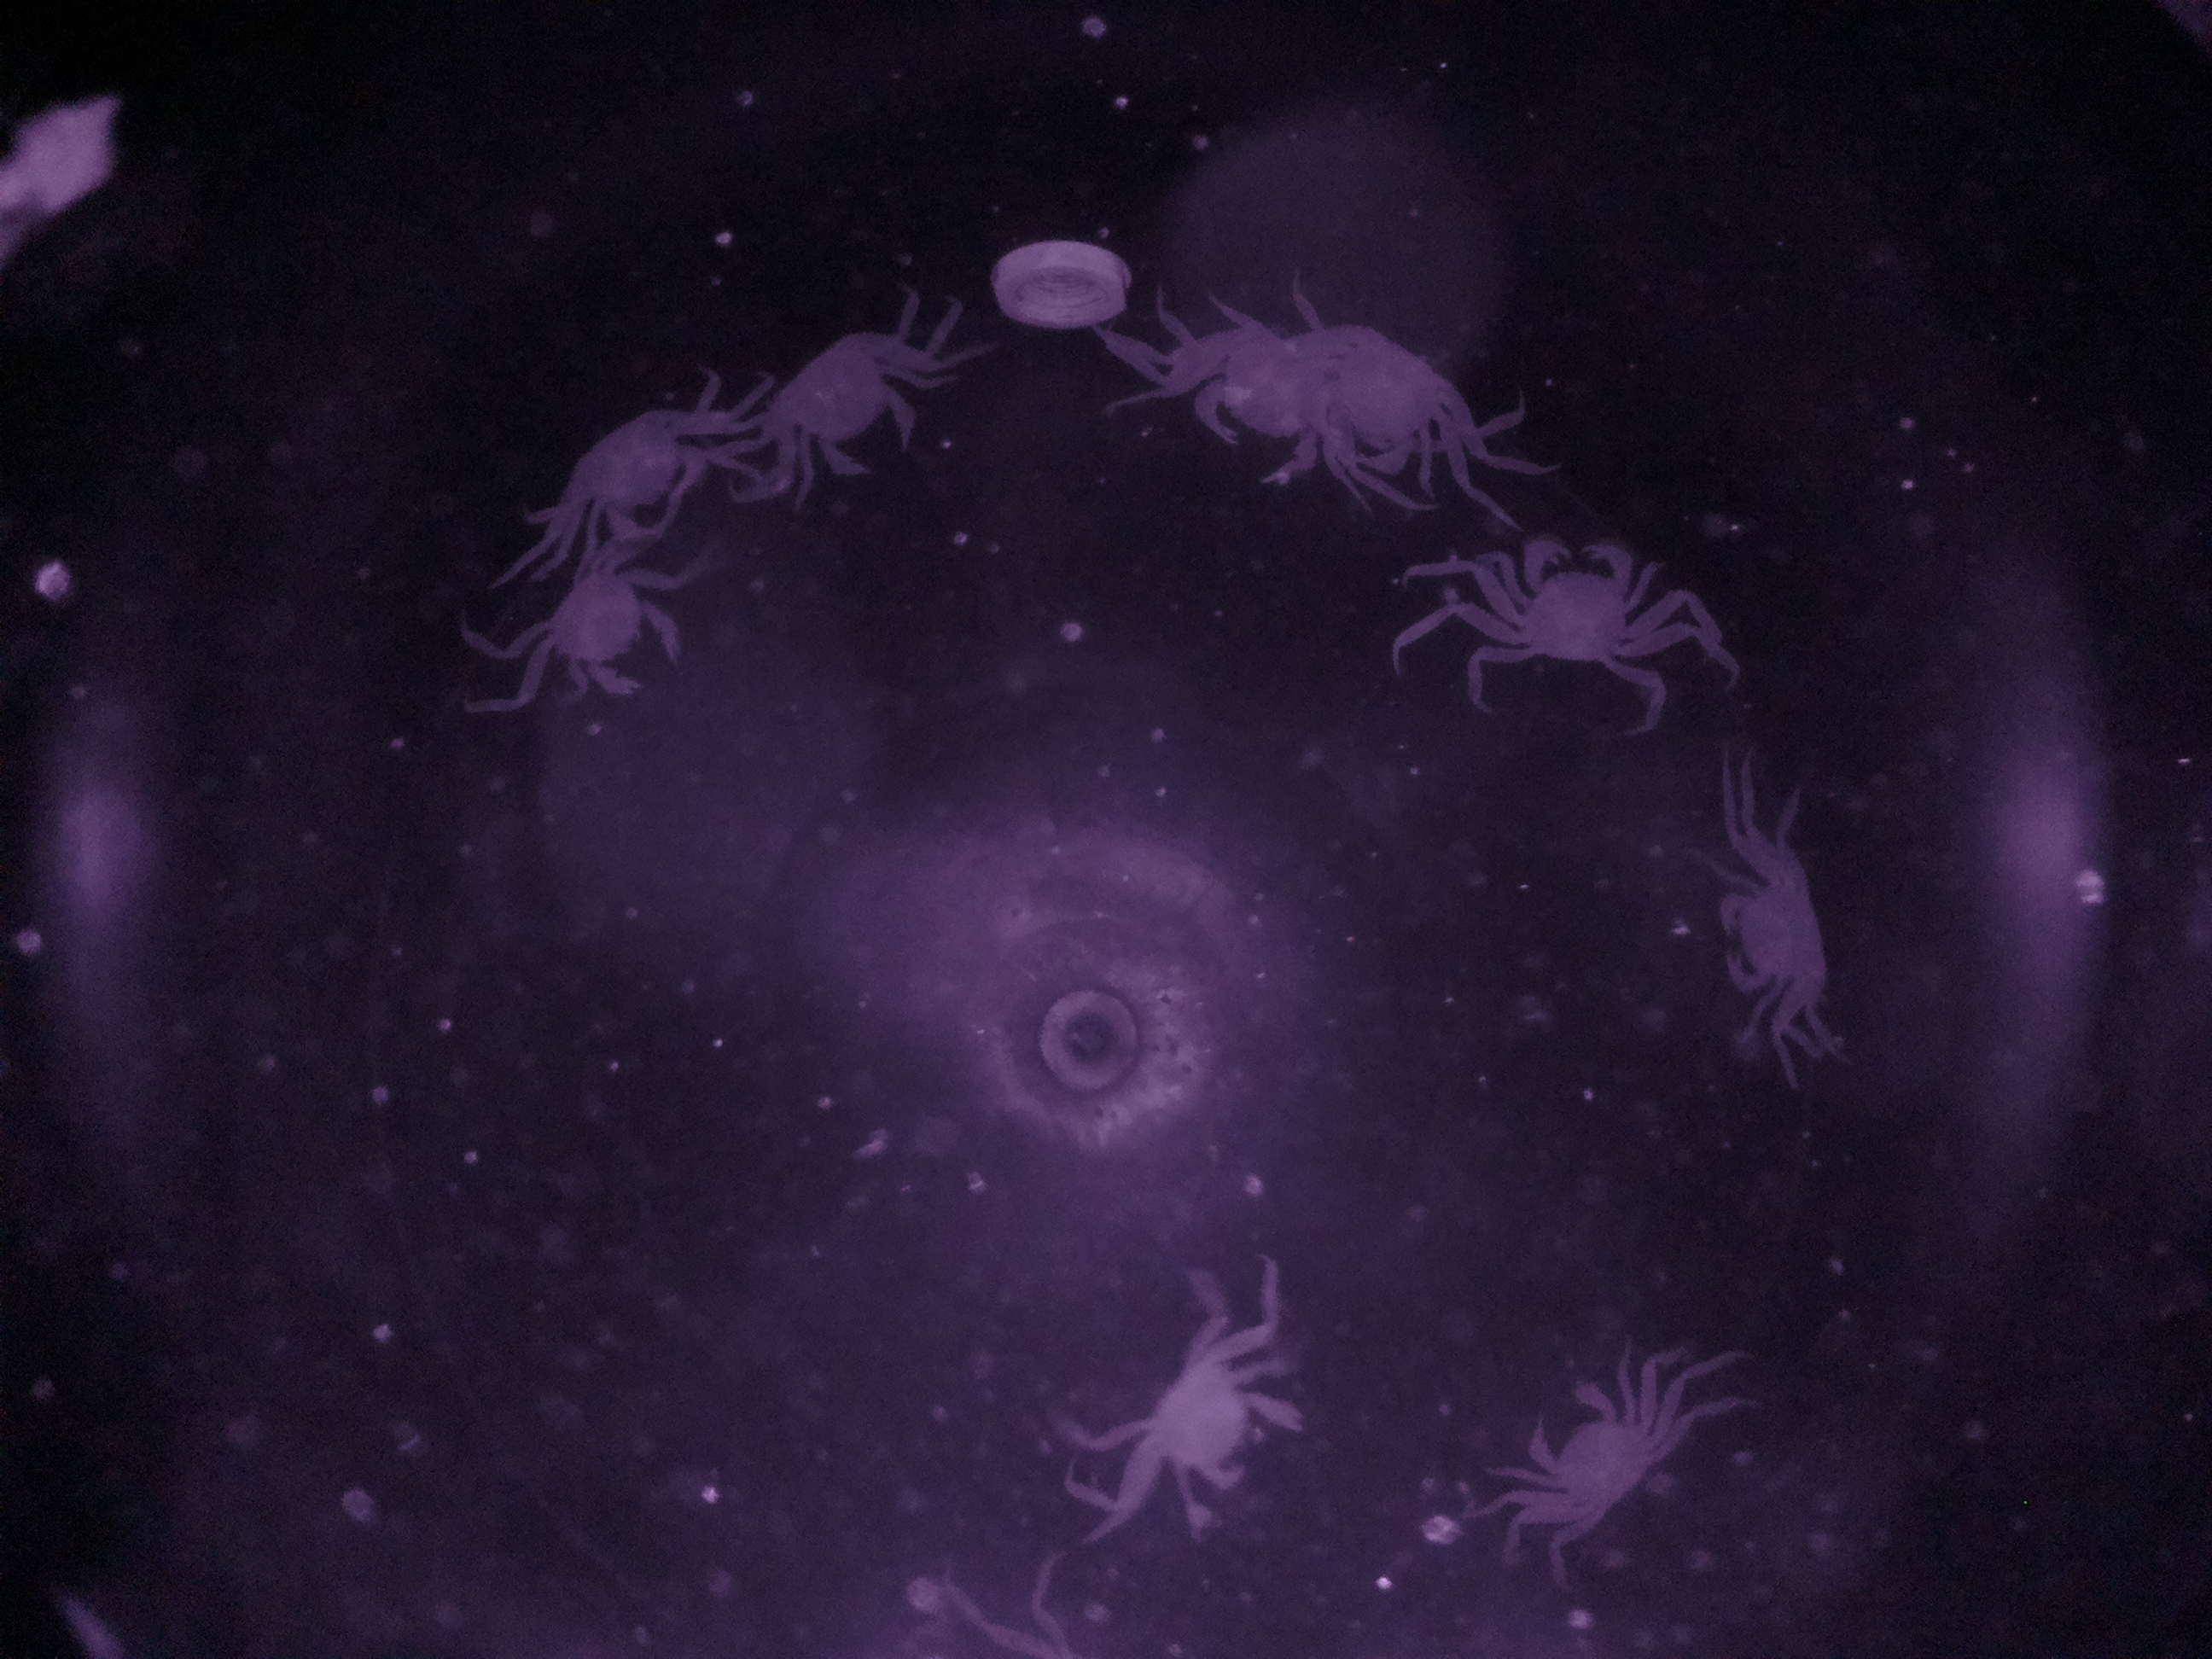Crab: (510, 523, 709, 744), (1463, 521, 1686, 695), (754, 298, 941, 505), (1702, 823, 1853, 1053), (1512, 1364, 1677, 1551)
